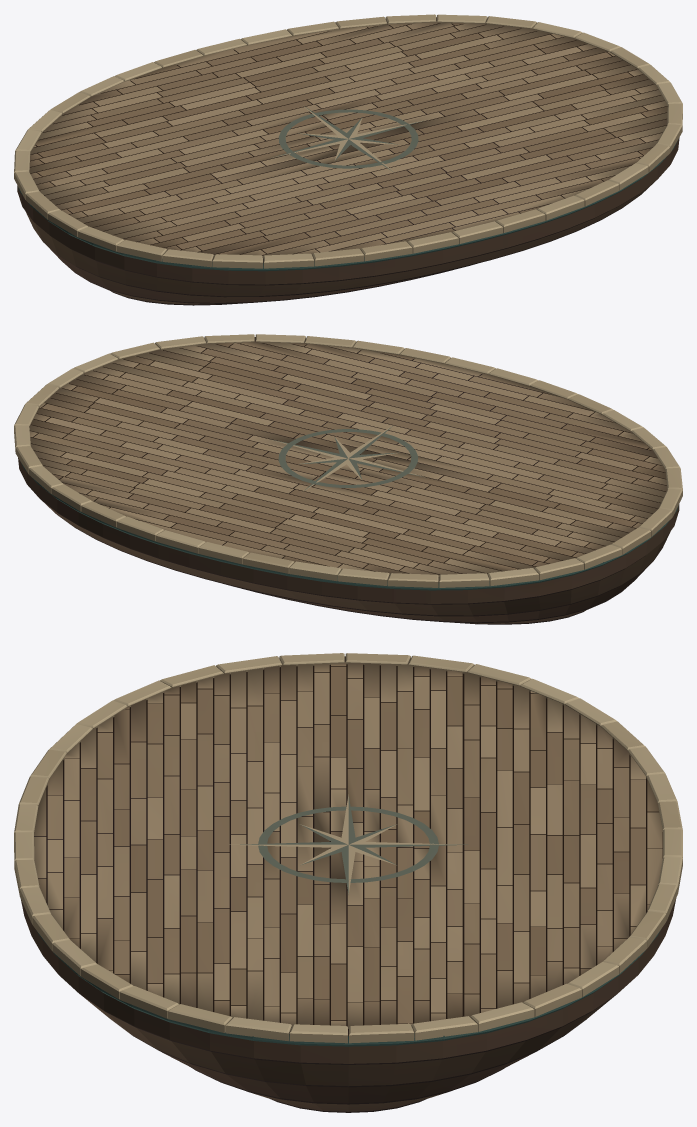
Rendered from plateau_pont.glb.
3 renders of one model, top to bottom at view 1: azimuth 30°, elevation 25°; view 2: azimuth 150°, elevation 25°; view 3: azimuth 270°, elevation 25°, orthographic. The views are drawn at different scales.
Visible parts, largest first — view 1: plateau_pont; view 2: plateau_pont; view 3: plateau_pont.
Boxes of the visible parts, <box> form: plateau_pont: <box>14,14,682,305</box>; plateau_pont: <box>14,334,682,624</box>; plateau_pont: <box>14,653,682,1112</box>.
Bounding box in the file's own units: 27.1 × 5.27 × 20.08.
